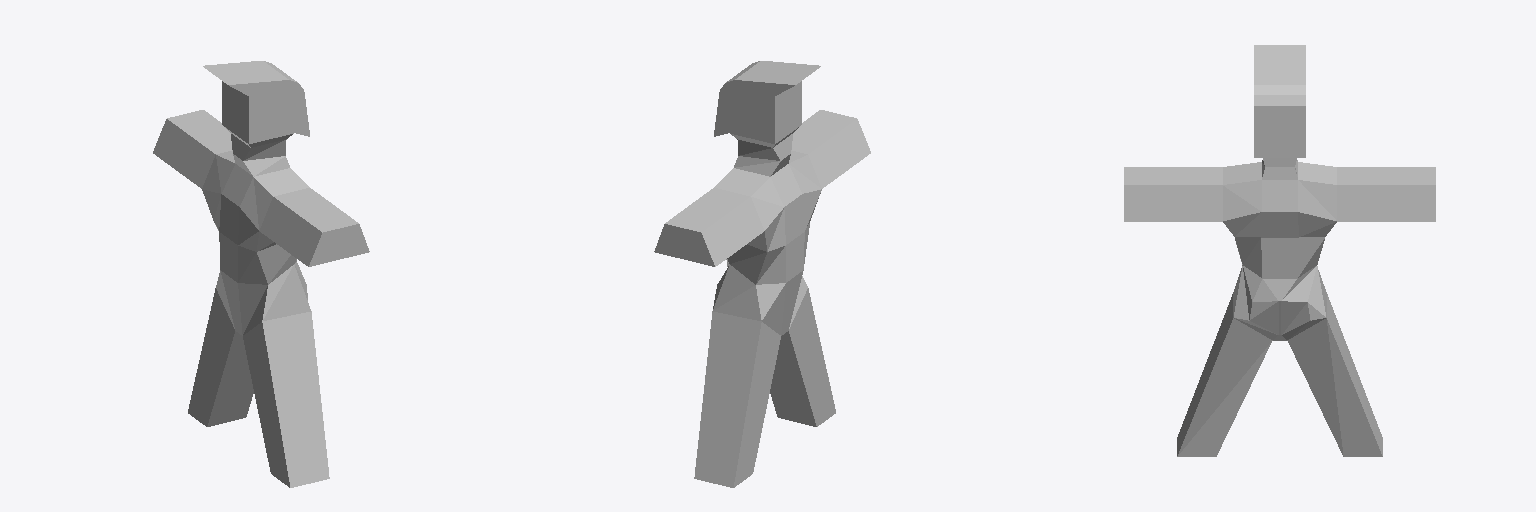
Rendered from BlockBody.obj.
3 views of the same model, side by side, from view 1: azimuth 30°, elevation 25°; view 2: azimuth 150°, elevation 25°; view 3: azimuth 270°, elevation 25° (orthographic).
Parts seen in each view (by area): view 1: pCube1; view 2: pCube1; view 3: pCube1.
Boxes of the visible parts, x1,y1,x2,y2 form: pCube1: [153, 61, 369, 487]; pCube1: [654, 61, 870, 487]; pCube1: [1124, 45, 1435, 456].
Size of the model in its own units: 1.8 by 7.94 by 5.89.